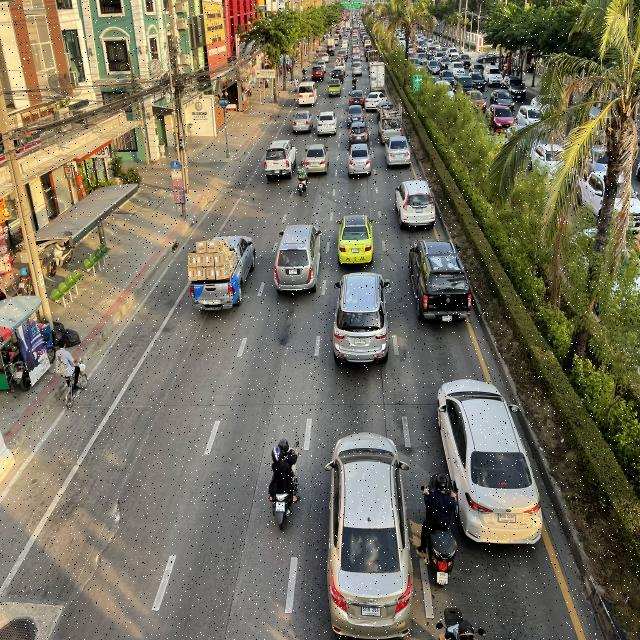bike: (416, 470, 461, 588), (262, 432, 302, 530), (296, 160, 309, 196), (351, 74, 358, 91), (294, 76, 298, 92), (302, 66, 306, 82)
car: (326, 430, 414, 640), (436, 377, 544, 546), (331, 272, 392, 368), (273, 223, 325, 295), (335, 214, 376, 266), (394, 179, 436, 229), (346, 143, 373, 178), (384, 136, 412, 168), (304, 143, 331, 176), (292, 110, 314, 134), (316, 111, 338, 135), (348, 122, 370, 145), (298, 81, 318, 106), (366, 90, 388, 112), (346, 104, 364, 127), (348, 90, 366, 109), (328, 78, 342, 98)
truck: (408, 236, 473, 324), (187, 232, 256, 312), (264, 140, 297, 180), (378, 102, 403, 145), (368, 61, 386, 94)
